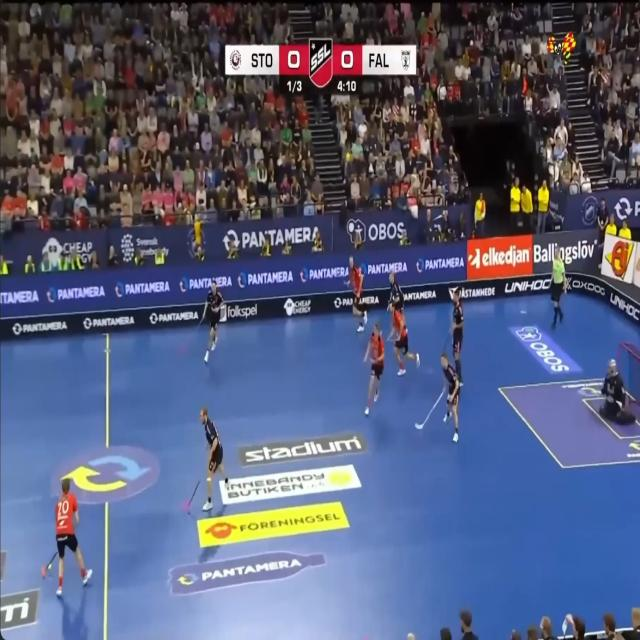Balls: (47, 563, 52, 569)
player: (56, 478, 92, 596), (200, 407, 228, 510), (389, 309, 419, 374), (364, 323, 384, 414), (203, 282, 225, 362), (440, 352, 459, 442), (348, 257, 367, 331), (551, 246, 567, 328), (451, 288, 464, 385), (387, 271, 403, 314)
stick: (415, 390, 443, 428), (182, 480, 200, 512), (42, 550, 58, 577), (440, 333, 450, 352), (197, 314, 204, 327)
